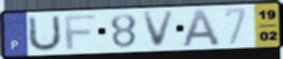7: (223, 7, 251, 47)
8: (108, 11, 139, 50)
A: (180, 8, 223, 49)
F: (63, 13, 98, 51)
U: (26, 13, 63, 54)
V: (141, 9, 179, 50)
